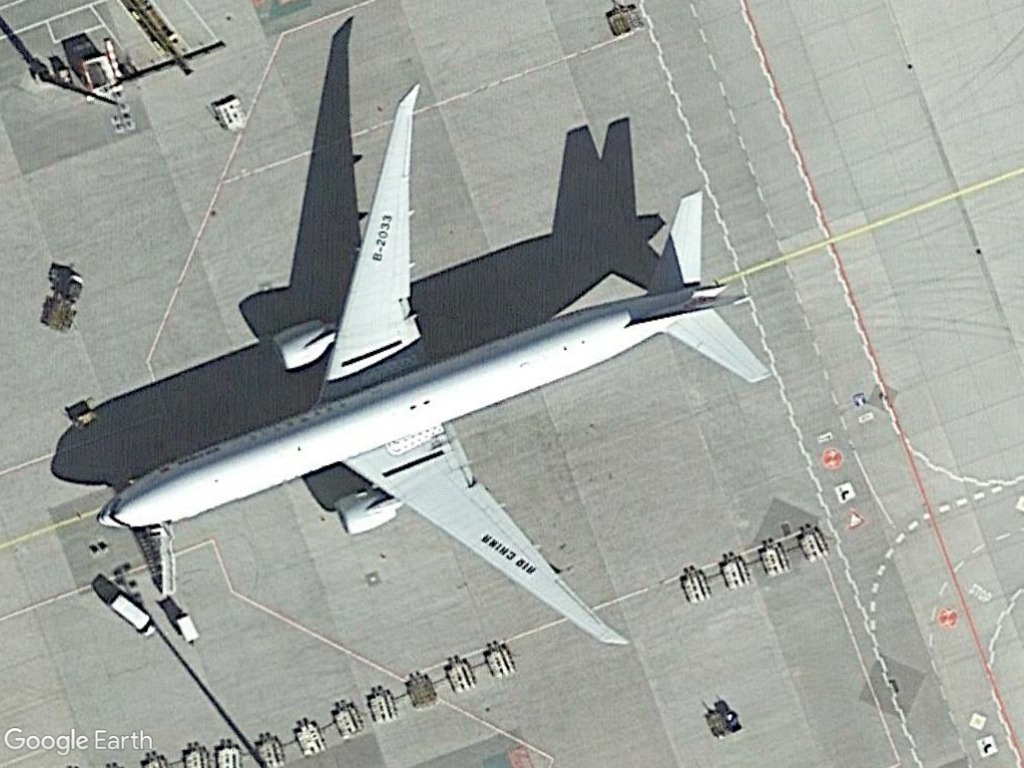airliner: (89, 67, 790, 645)
van: (104, 590, 161, 641)
